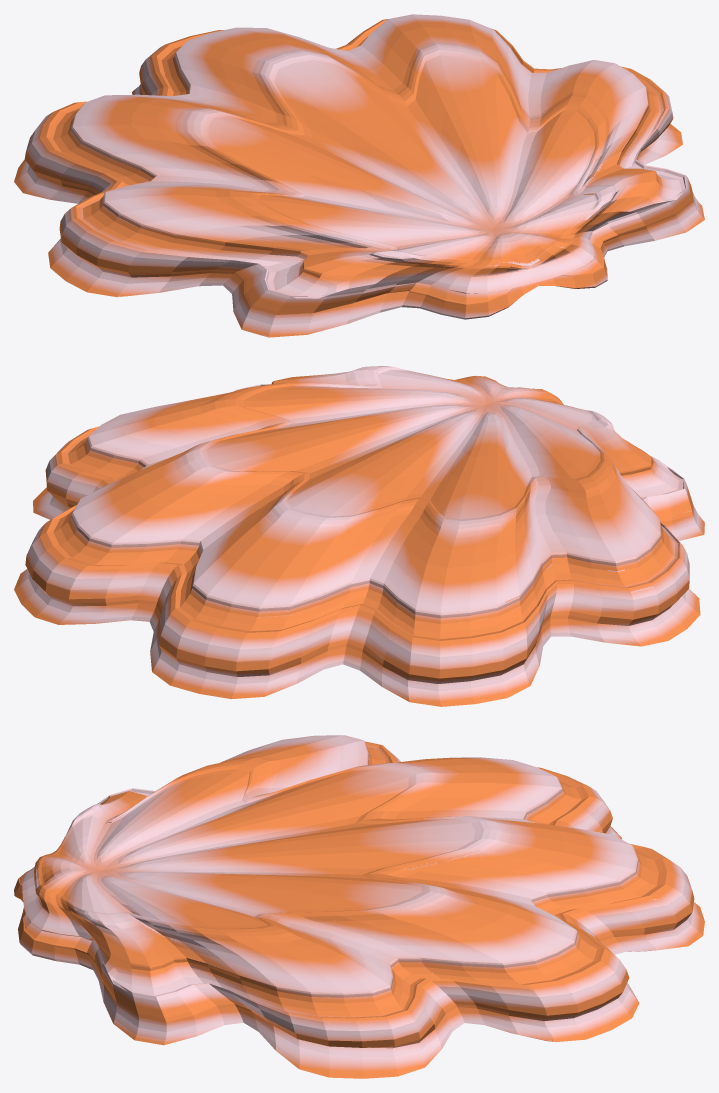
The model's file is scallop brown.fbx.
3 views of the same model, one above another, from view 1: azimuth 30°, elevation 25°; view 2: azimuth 150°, elevation 25°; view 3: azimuth 270°, elevation 25° (orthographic).
Parts seen in each view (by area): view 1: seashell; view 2: seashell; view 3: seashell.
Boxes of the visible parts, x1,y1,x2,y2 form: seashell: (14, 14, 704, 337); seashell: (14, 366, 704, 706); seashell: (14, 735, 704, 1078).
Size of the model in its own units: 191 by 28.48 by 185.
Materials: 1 (1 with a texture image).
